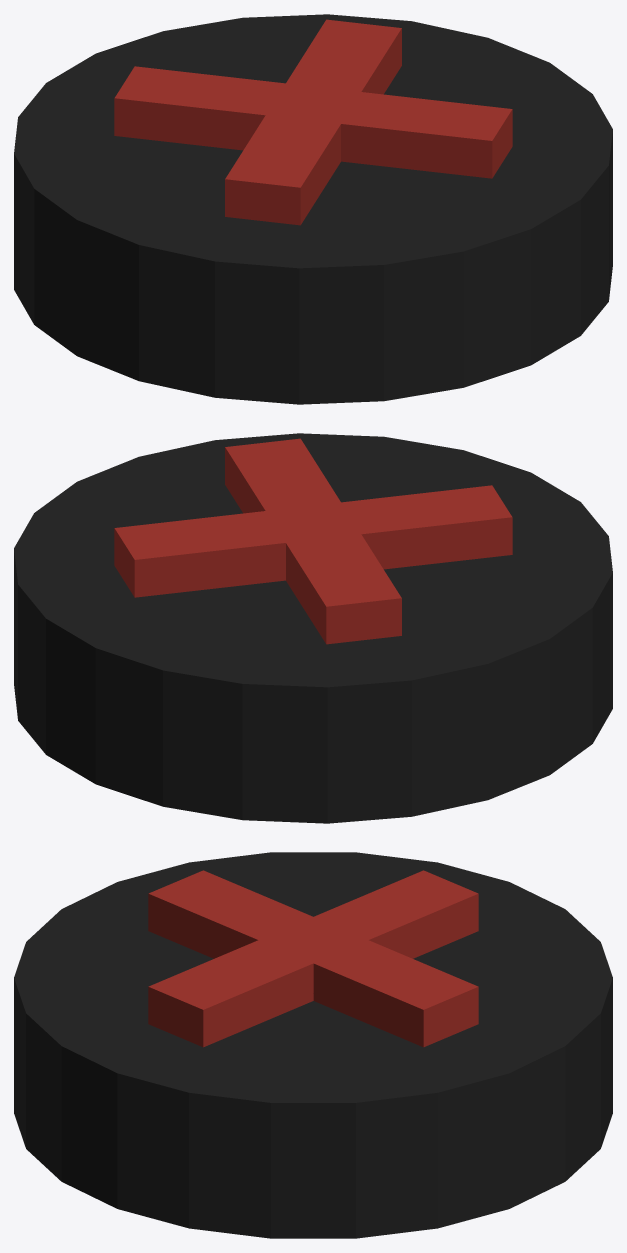
3 renders of one model, top to bottom at view 1: azimuth 30°, elevation 25°; view 2: azimuth 150°, elevation 25°; view 3: azimuth 270°, elevation 25°, orthographic.
Parts seen in each view (by area): view 1: Cylinder, Cube; view 2: Cylinder, Cube; view 3: Cylinder, Cube.
Boxes of the visible parts, box(x1,y1,x2,y2) form: Cylinder: box(14, 14, 612, 404); Cube: box(114, 19, 512, 225); Cylinder: box(14, 433, 612, 823); Cube: box(114, 438, 512, 644); Cylinder: box(14, 852, 612, 1238); Cube: box(148, 870, 478, 1047).
Size of the model in its own units: 0.198 by 0.0638 by 0.2.
